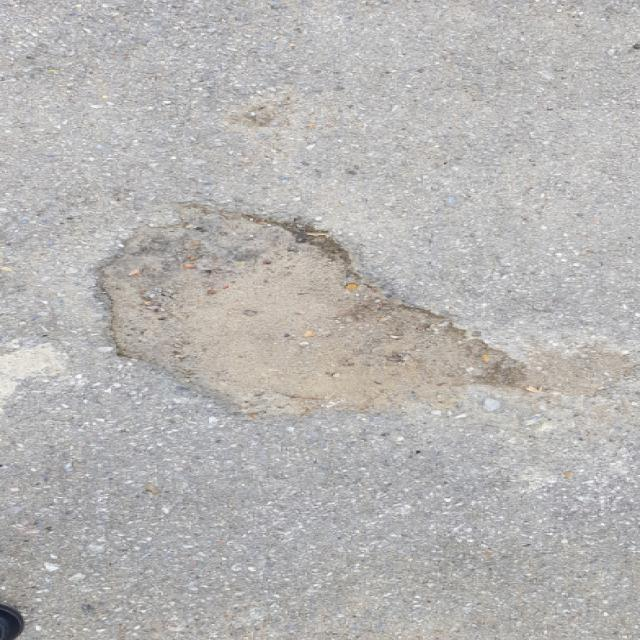Pothole: (81, 197, 533, 424)
